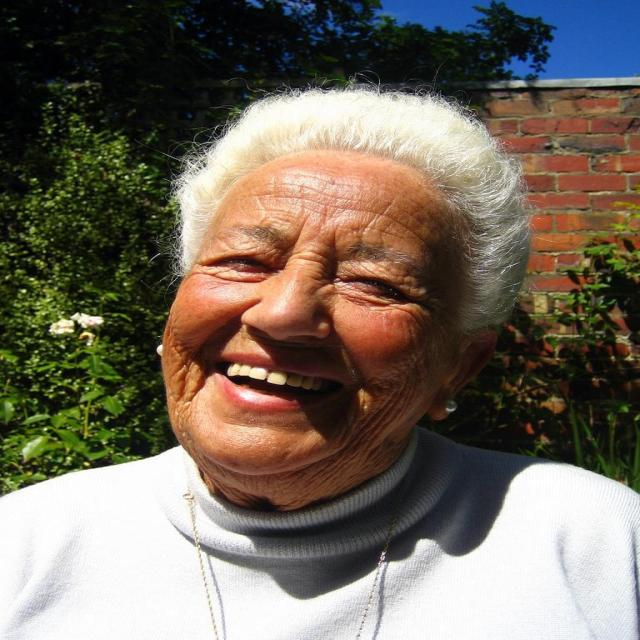Eyeclosed: (335, 271, 414, 306), (208, 248, 272, 280)
